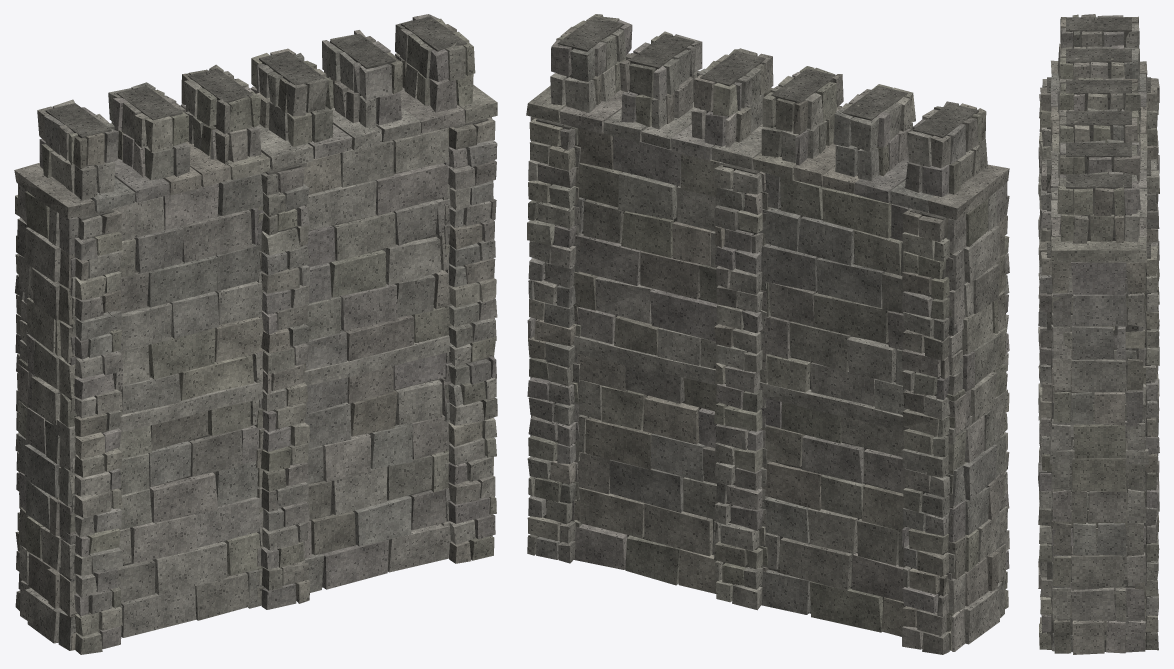
The model's file is muro_pedra_gigante.glb.
3 renders of one model, left to right at view 1: azimuth 30°, elevation 25°; view 2: azimuth 150°, elevation 25°; view 3: azimuth 270°, elevation 25°, orthographic. The views are drawn at different scales.
Parts seen in each view (by area): view 1: muro_pedra_gigante_pedra; view 2: muro_pedra_gigante_pedra; view 3: muro_pedra_gigante_pedra.
Boxes of the visible parts, bbox=[...] form: muro_pedra_gigante_pedra: bbox=[14, 14, 497, 654]; muro_pedra_gigante_pedra: bbox=[526, 14, 1009, 654]; muro_pedra_gigante_pedra: bbox=[1038, 14, 1159, 654].
Size of the model in its own units: 9.16 by 10.21 by 2.46.
Materials: 1 (1 with a texture image).
